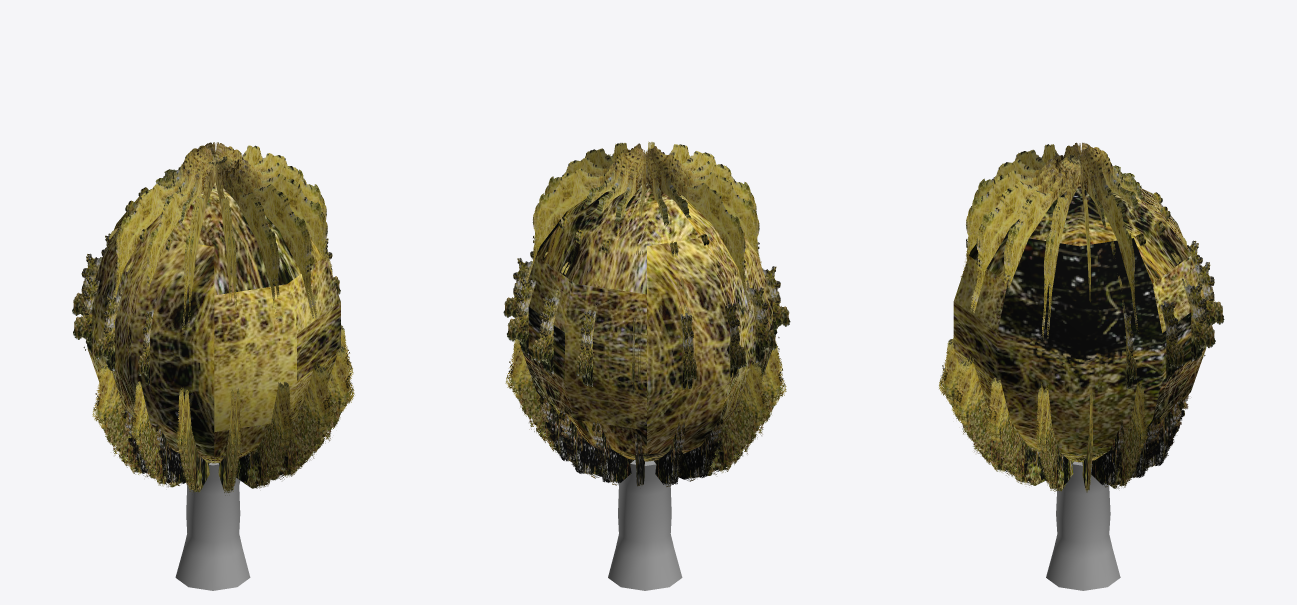
File: cuucat.fbx
The picture shows the model from 3 angles, left to right: view 1: azimuth 30°, elevation 25°; view 2: azimuth 150°, elevation 25°; view 3: azimuth 270°, elevation 25°; orthographic projection.
Parts seen in each view (by area): view 1: pSphere1, pCylinder1, pPlane14, pPlane1, pPlane15, pPlane12, pPlane2, pPlane11, pPlane16, pPlane3, pPlane13, pPlane7 (+6 smaller); view 2: pSphere1, pCylinder1, pPlane1, pPlane16, pPlane2, pPlane4, pPlane3, pPlane5, pPlane13, pPlane11, pPlane12, pPlane17 (+6 smaller); view 3: pSphere1, pCylinder1, pPlane6, pPlane7, pPlane16, pPlane10, pPlane5, pPlane8, pPlane2, pPlane15, pPlane17, pPlane4 (+5 smaller).
Part boxes in pixels (x1,y1,x2,y2): pSphere1: (87,182,340,463); pCylinder1: (175,463,250,590); pPlane14: (105,143,330,480); pPlane1: (92,144,340,478); pPlane15: (201,143,288,488); pPlane12: (74,144,353,461); pPlane2: (130,143,233,487); pPlane11: (95,147,306,473); pPlane16: (138,145,263,485); pPlane3: (183,142,218,492); pPlane13: (73,146,353,379); pPlane7: (72,145,354,450); pSphere1: (522,181,772,461); pCylinder1: (608,460,682,590); pPlane1: (530,143,768,475); pPlane16: (505,146,790,452); pPlane2: (503,145,786,455); pPlane4: (536,148,710,478); pPlane3: (508,146,780,462); pPlane5: (581,144,691,485); pPlane13: (590,148,741,481); pPlane11: (544,147,776,362); pPlane12: (612,143,690,486); pPlane17: (507,146,782,457); pSphere1: (953,182,1206,462); pCylinder1: (1046,461,1120,590); pPlane6: (954,144,1199,475); pPlane7: (990,143,1136,485); pPlane16: (1063,142,1147,488); pPlane10: (982,147,1213,467); pPlane5: (939,146,1223,442); pPlane8: (1041,143,1083,491); pPlane2: (1038,144,1137,487); pPlane15: (939,146,1224,439); pPlane17: (1021,149,1180,480); pPlane4: (953,148,1215,463).
Bounding box in the file's own units: 15.38 × 19.89 × 15.37.
2 materials, 1 textured.
